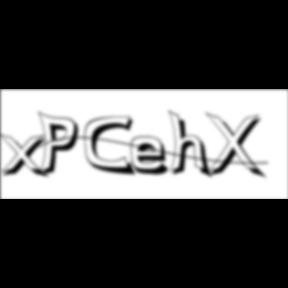C: (84, 115, 140, 178)
P: (37, 110, 84, 180)
X: (205, 112, 269, 182)
e: (131, 135, 177, 178)
h: (168, 108, 216, 182)
x: (0, 132, 54, 181)
